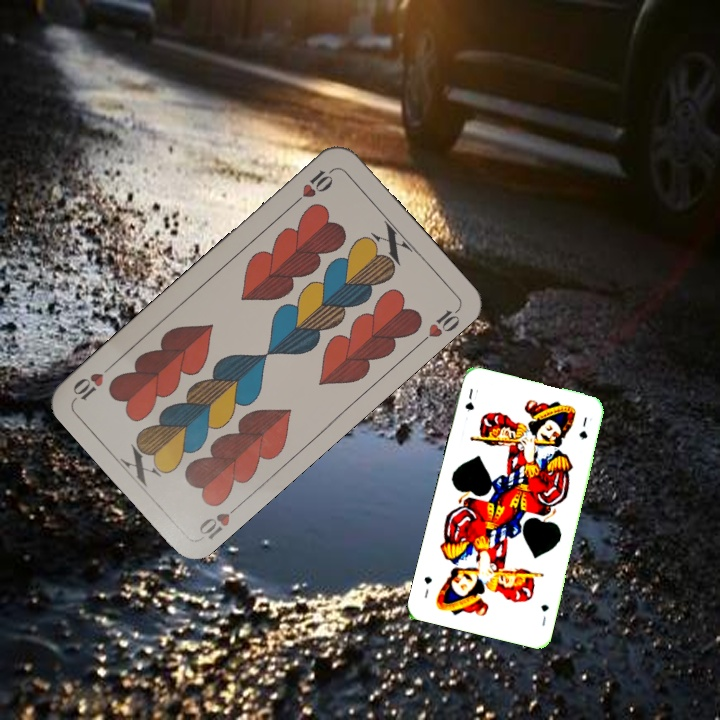GU: (461, 384, 477, 414), (537, 600, 551, 629)
H10: (195, 498, 245, 542), (288, 165, 336, 209)
